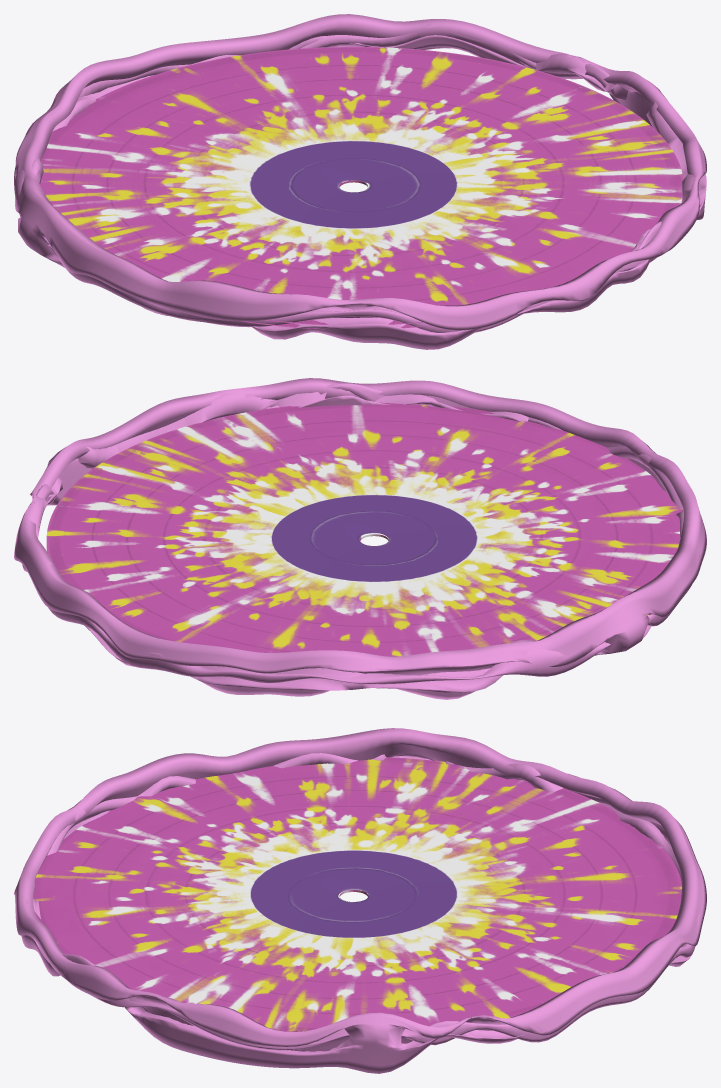
The model's file is Record With Extras After Press.fbx.
The picture shows the model from 3 angles, top to bottom: view 1: azimuth 30°, elevation 25°; view 2: azimuth 150°, elevation 25°; view 3: azimuth 270°, elevation 25°; orthographic projection.
Parts seen in each view (by area): view 1: Record Phase 4 Extras, Record Phase 4 Extras Ring; view 2: Record Phase 4 Extras, Record Phase 4 Extras Ring; view 3: Record Phase 4 Extras, Record Phase 4 Extras Ring.
Part boxes in pixels (x1,y1,x2,y2): Record Phase 4 Extras: (40, 46, 683, 329); Record Phase 4 Extras Ring: (14, 14, 706, 349); Record Phase 4 Extras: (46, 402, 699, 656); Record Phase 4 Extras Ring: (14, 378, 706, 699); Record Phase 4 Extras: (33, 757, 681, 1031); Record Phase 4 Extras Ring: (14, 728, 706, 1073).
Size of the model in its own units: 98.69 by 9.22 by 96.74.
Materials: 3 (2 with a texture image).
